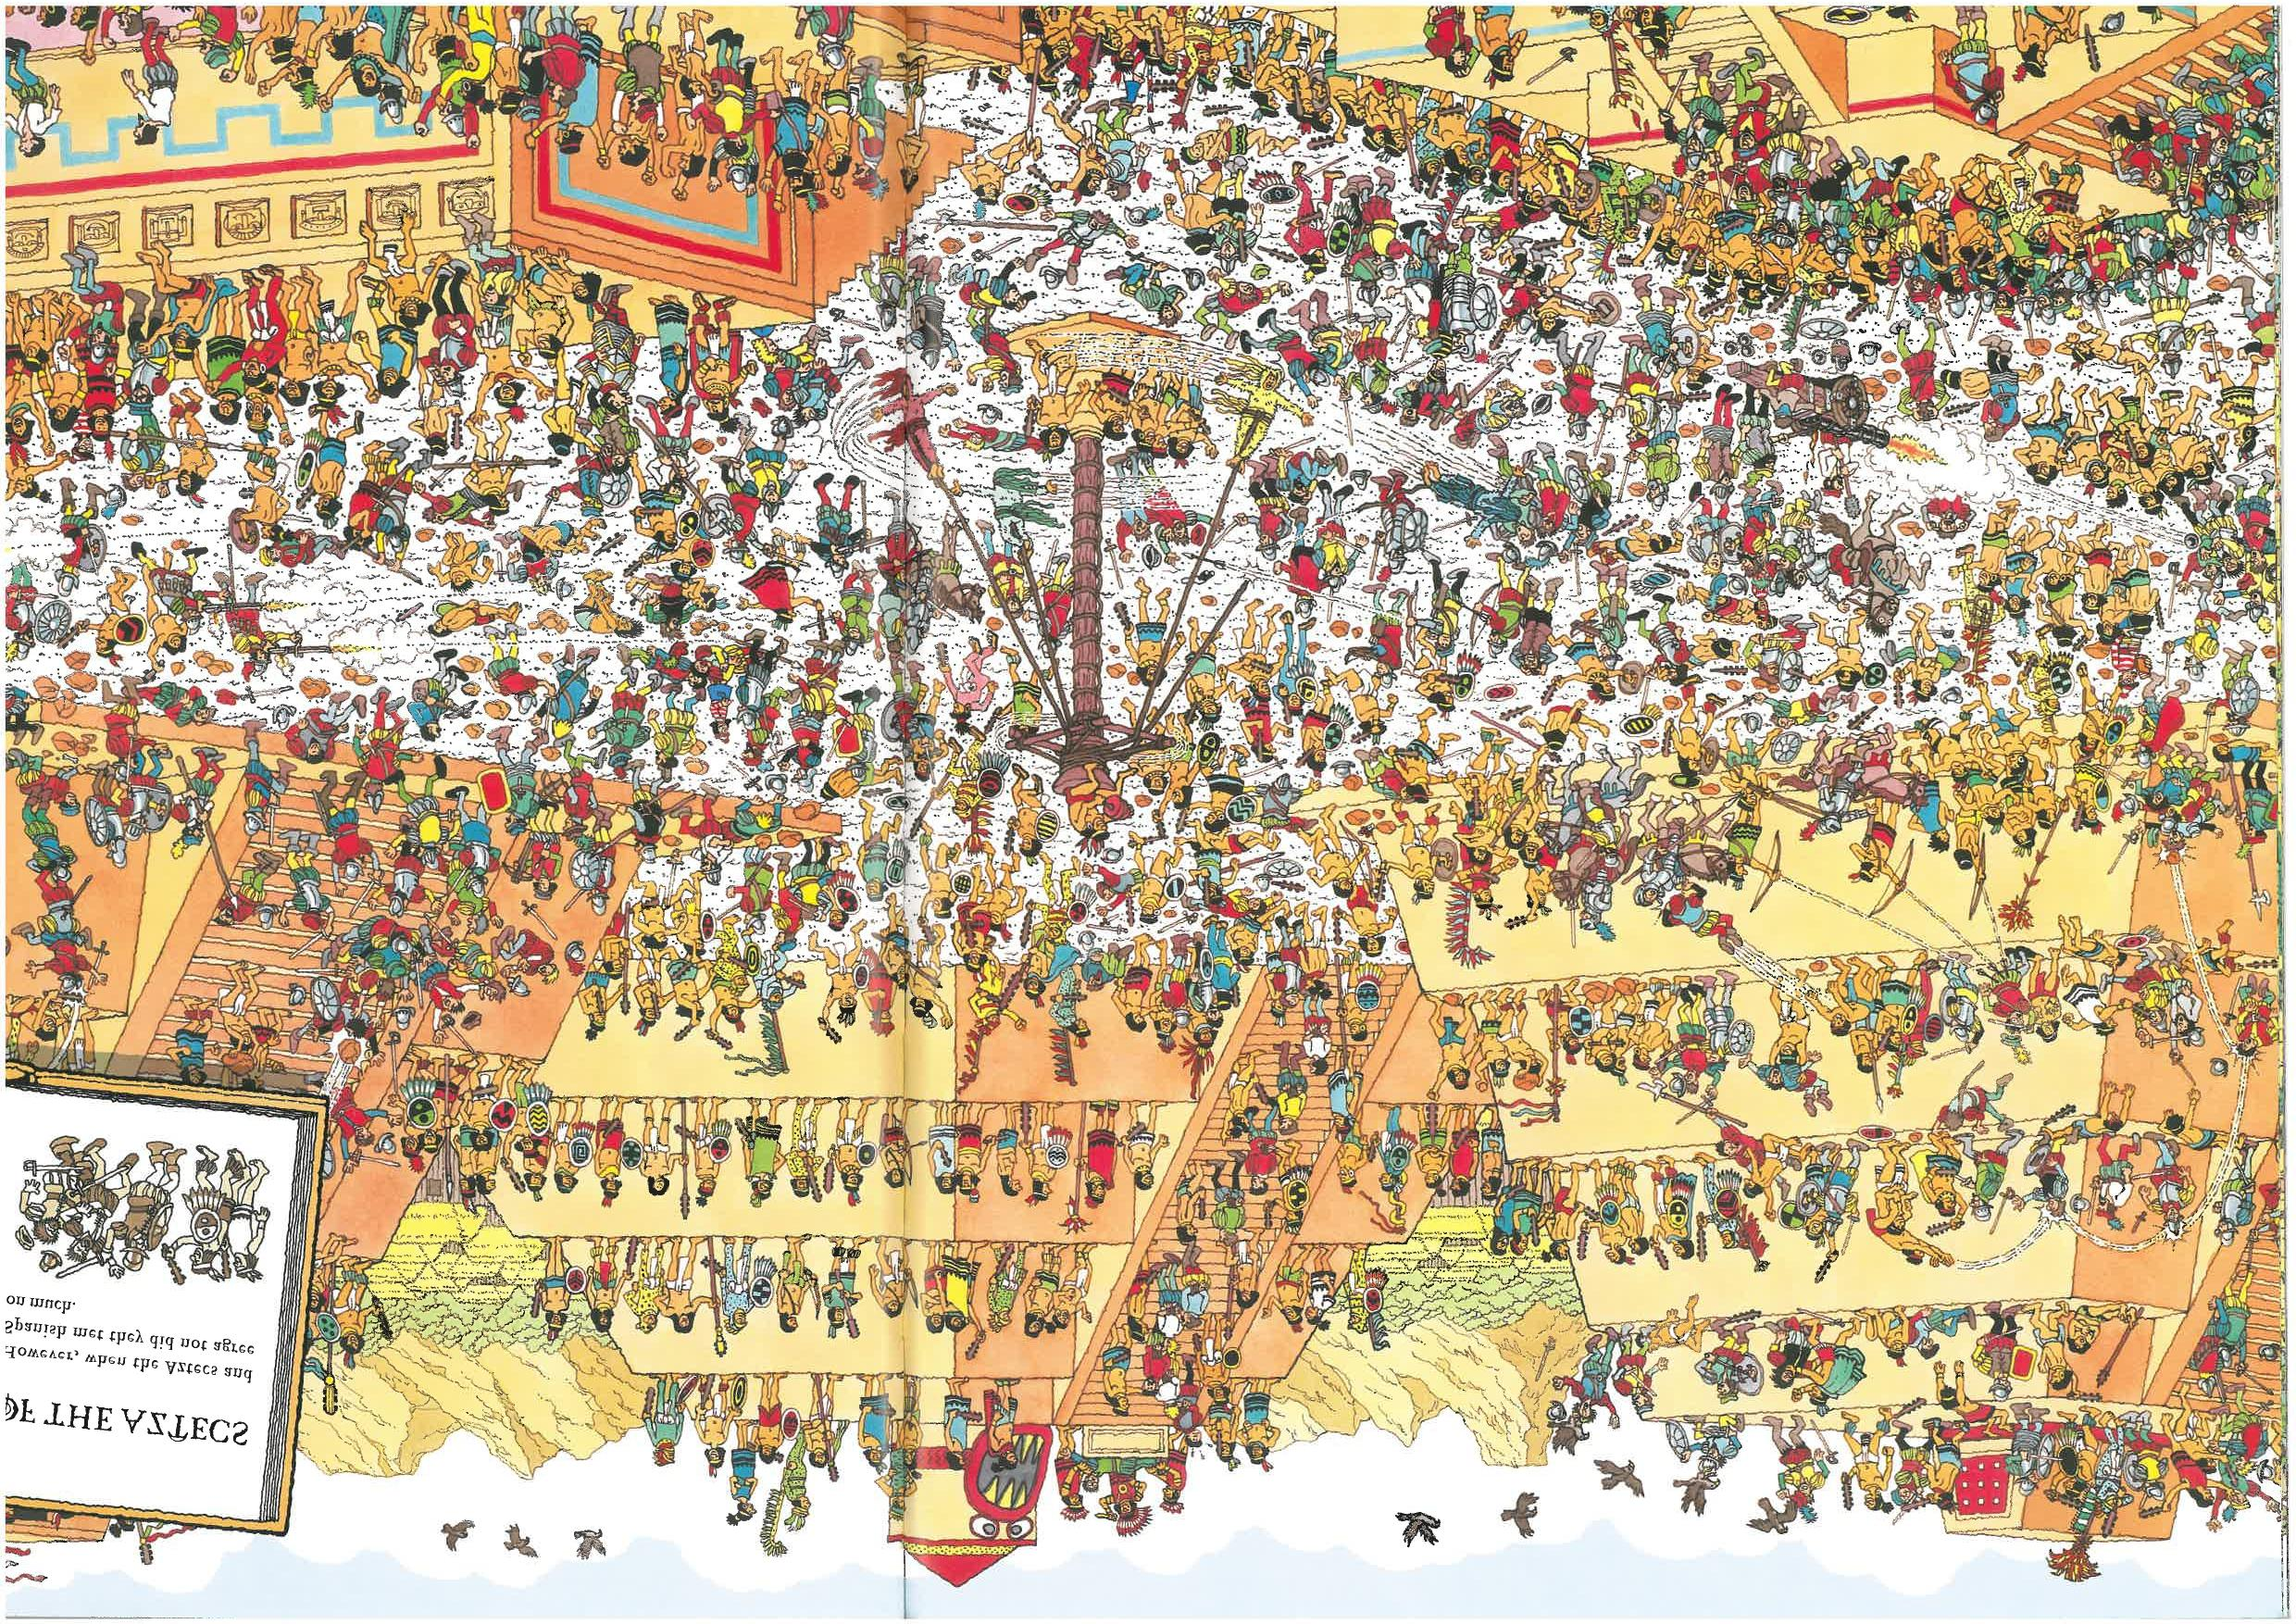waldos: (2110, 627, 2143, 701)
